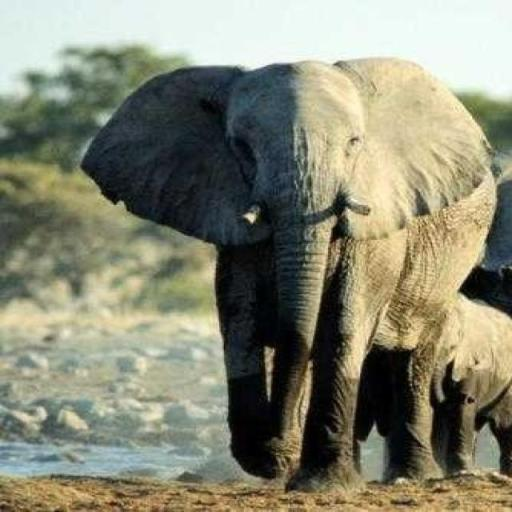Elephant: (78, 54, 500, 490)
